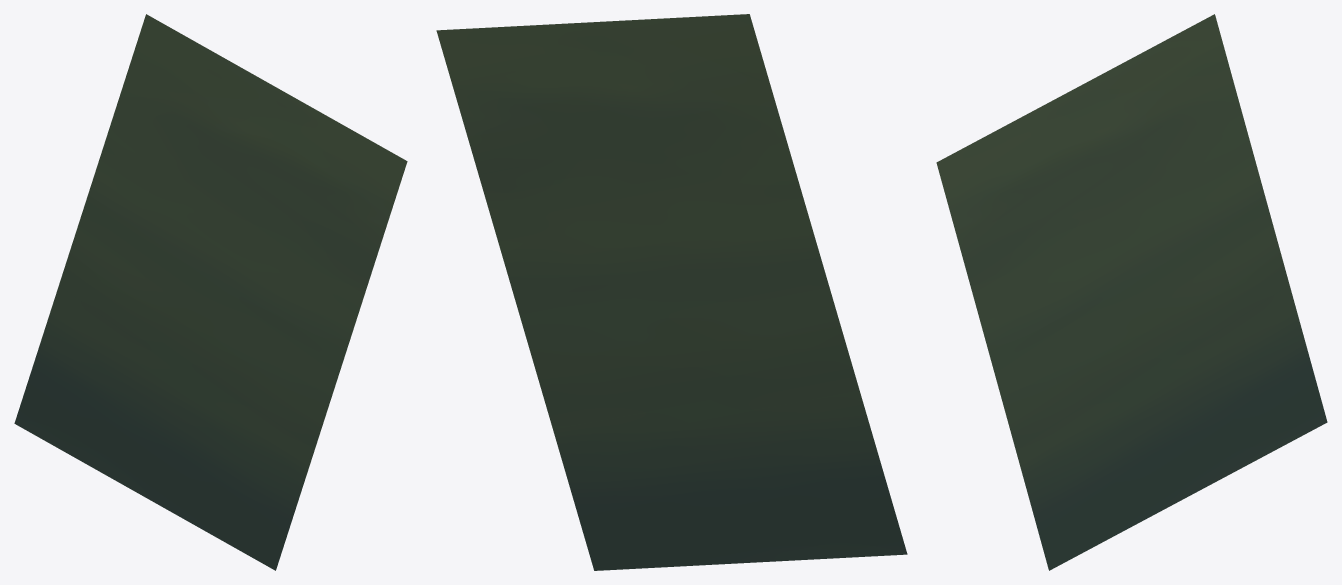
File: pplane39_lambert6_0.001_lev2.glb
The picture shows the model from 3 angles, left to right: view 1: azimuth 30°, elevation 25°; view 2: azimuth 210°, elevation 25°; view 3: azimuth 270°, elevation 25°; orthographic projection. The views are drawn at different scales.
Parts seen in each view (by area): view 1: pplane39_lambert6_0.001_lev2; view 2: pplane39_lambert6_0.001_lev2; view 3: pplane39_lambert6_0.001_lev2.
Boxes of the visible parts, bbox=[...] form: pplane39_lambert6_0.001_lev2: bbox=[14, 14, 407, 570]; pplane39_lambert6_0.001_lev2: bbox=[436, 14, 907, 570]; pplane39_lambert6_0.001_lev2: bbox=[936, 14, 1327, 570].
Size of the model in its own units: 0.0749 by 0.1781 by 0.1188.
1 material, 1 textured.
